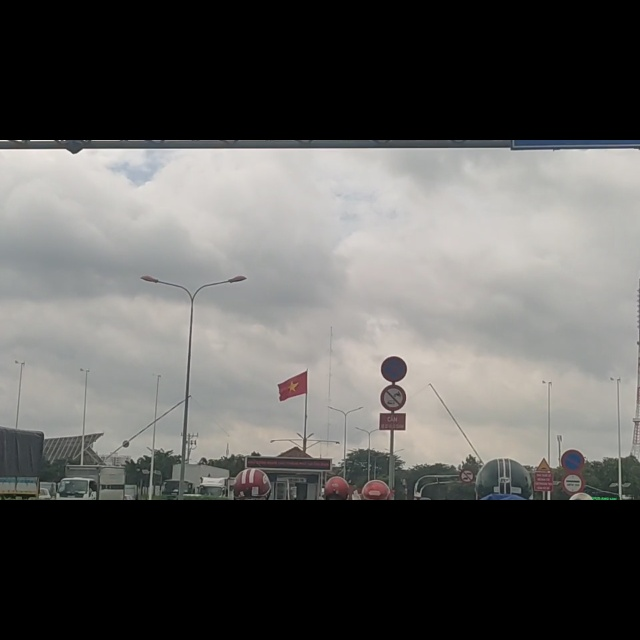bien_nguy_hiem: (381, 383, 407, 429), (381, 435, 405, 481), (562, 550, 585, 590), (563, 593, 585, 628), (537, 564, 551, 589), (461, 584, 474, 609)
